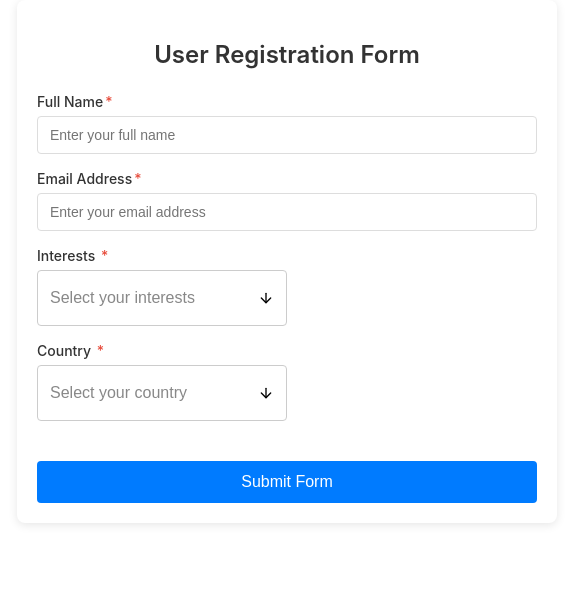
Test: Form Component › handles search in interests dropdown
This screenshot has width=575, height=613.
Click the button "Select your interests".
click(162, 298)  # box left=37, top=270, right=287, bottom=326
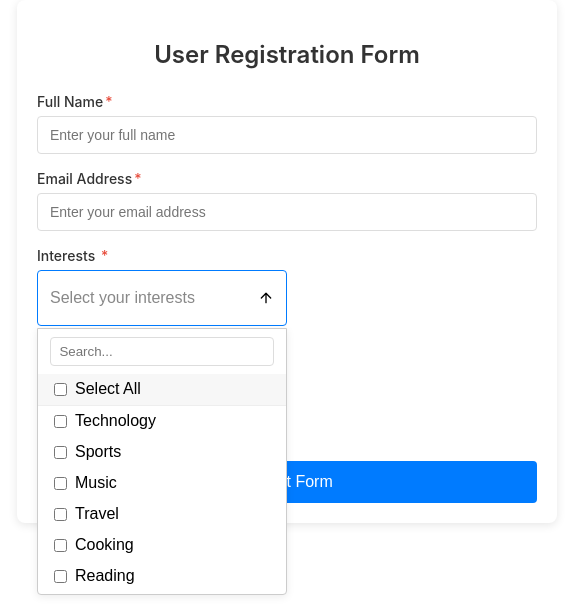
Type "Technology" into the field with placeholder "Search...".
click(162, 351); type("Technology")  # box left=50, top=337, right=274, bottom=366
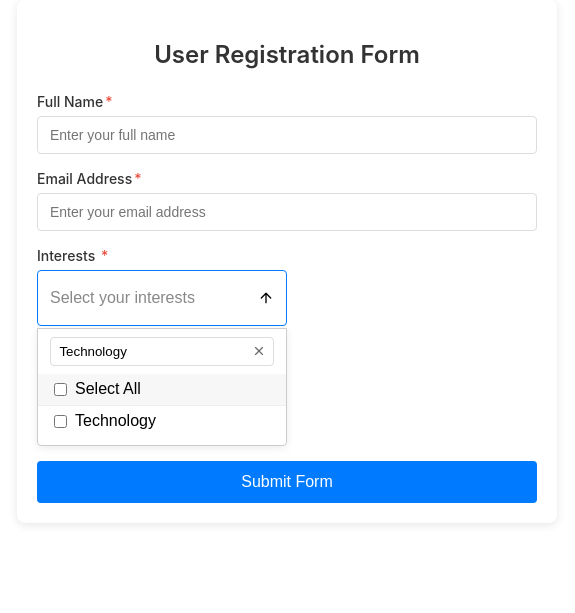
Result: the text "Technology" is shown at left=75, top=412, right=156, bottom=430
Result: the text "Sports" is gone
